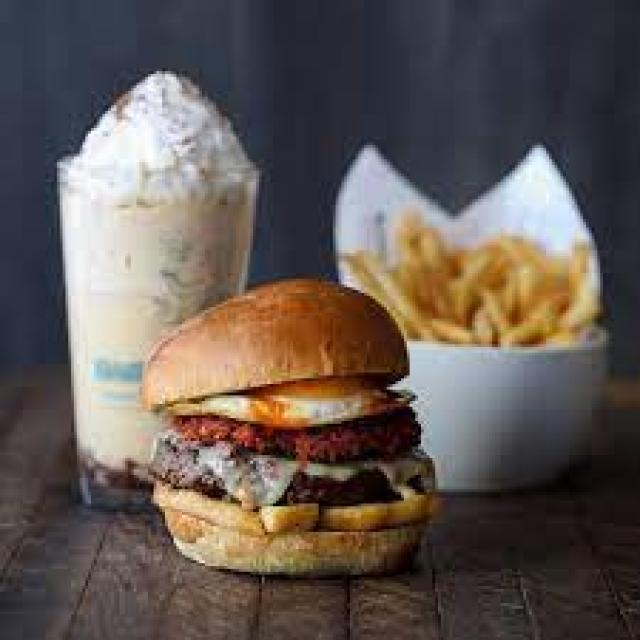Burger: (162, 319, 432, 582)
Fries: (366, 207, 613, 309)
